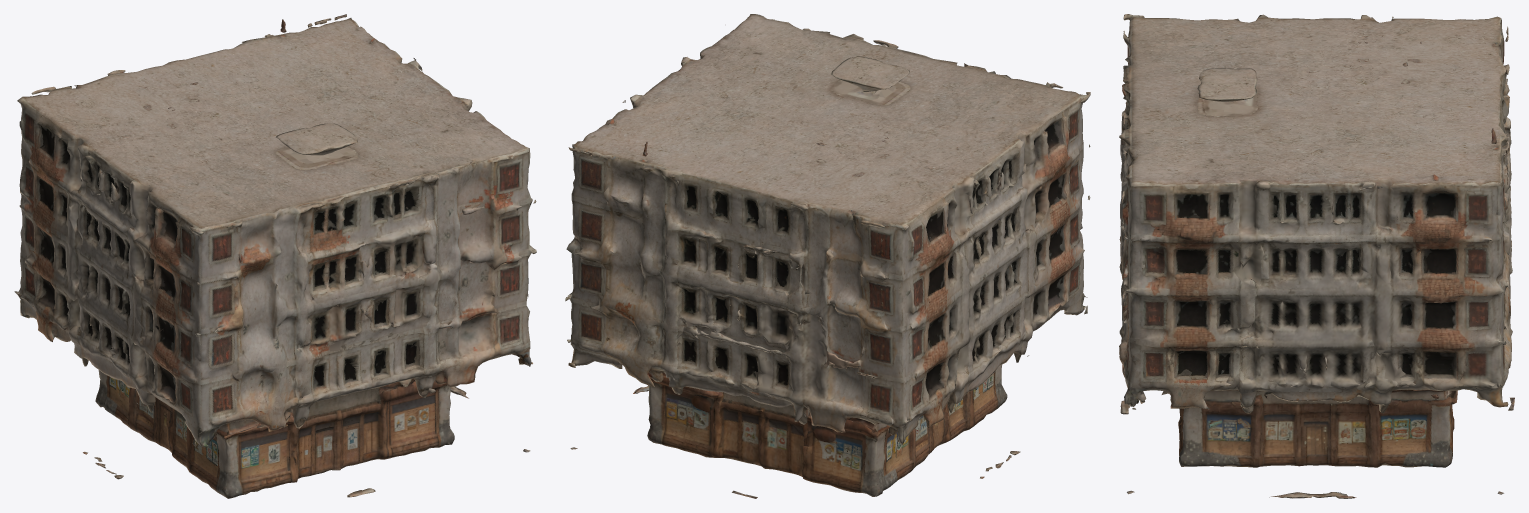
Rendered from Bldg_Corner.glb.
3 views of the same model, side by side, from view 1: azimuth 30°, elevation 25°; view 2: azimuth 150°, elevation 25°; view 3: azimuth 270°, elevation 25° (orthographic). The views are drawn at different scales.
Visible parts, largest first — view 1: texture_mapping; view 2: texture_mapping; view 3: texture_mapping.
Boxes of the visible parts, x1,y1,x2,y2 form: texture_mapping: (14, 14, 536, 498); texture_mapping: (565, 14, 1090, 498); texture_mapping: (1119, 14, 1514, 498).
Bounding box in the file's own units: 0.9499 × 0.8275 × 0.8986.
Materials: 1 (1 with a texture image).
